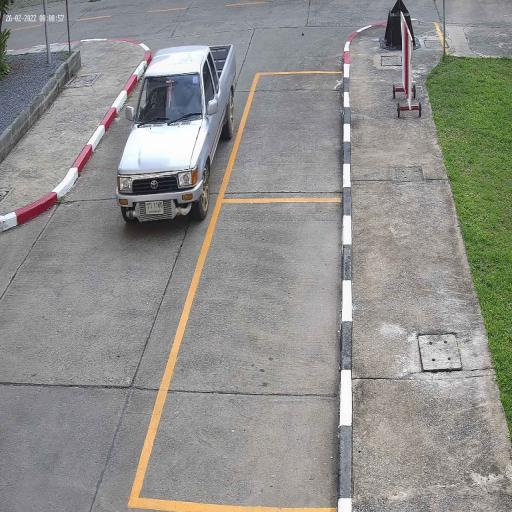car: (116, 42, 236, 222)
